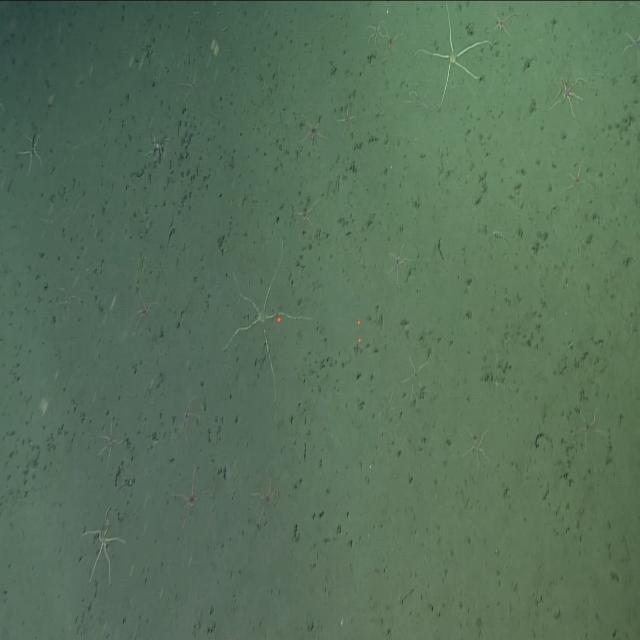Brittle Star: (218, 240, 315, 405), (413, 3, 494, 111), (76, 501, 130, 591), (169, 461, 218, 542), (568, 395, 611, 459), (545, 65, 590, 123), (456, 418, 496, 478), (560, 151, 598, 210), (248, 466, 284, 528), (93, 411, 129, 472), (14, 122, 49, 180), (398, 347, 434, 403), (52, 270, 86, 328), (296, 108, 332, 160), (380, 234, 414, 288), (126, 288, 161, 339), (172, 392, 205, 446), (288, 190, 323, 240), (332, 95, 364, 143), (488, 4, 519, 46), (616, 20, 640, 69), (360, 12, 389, 51)
